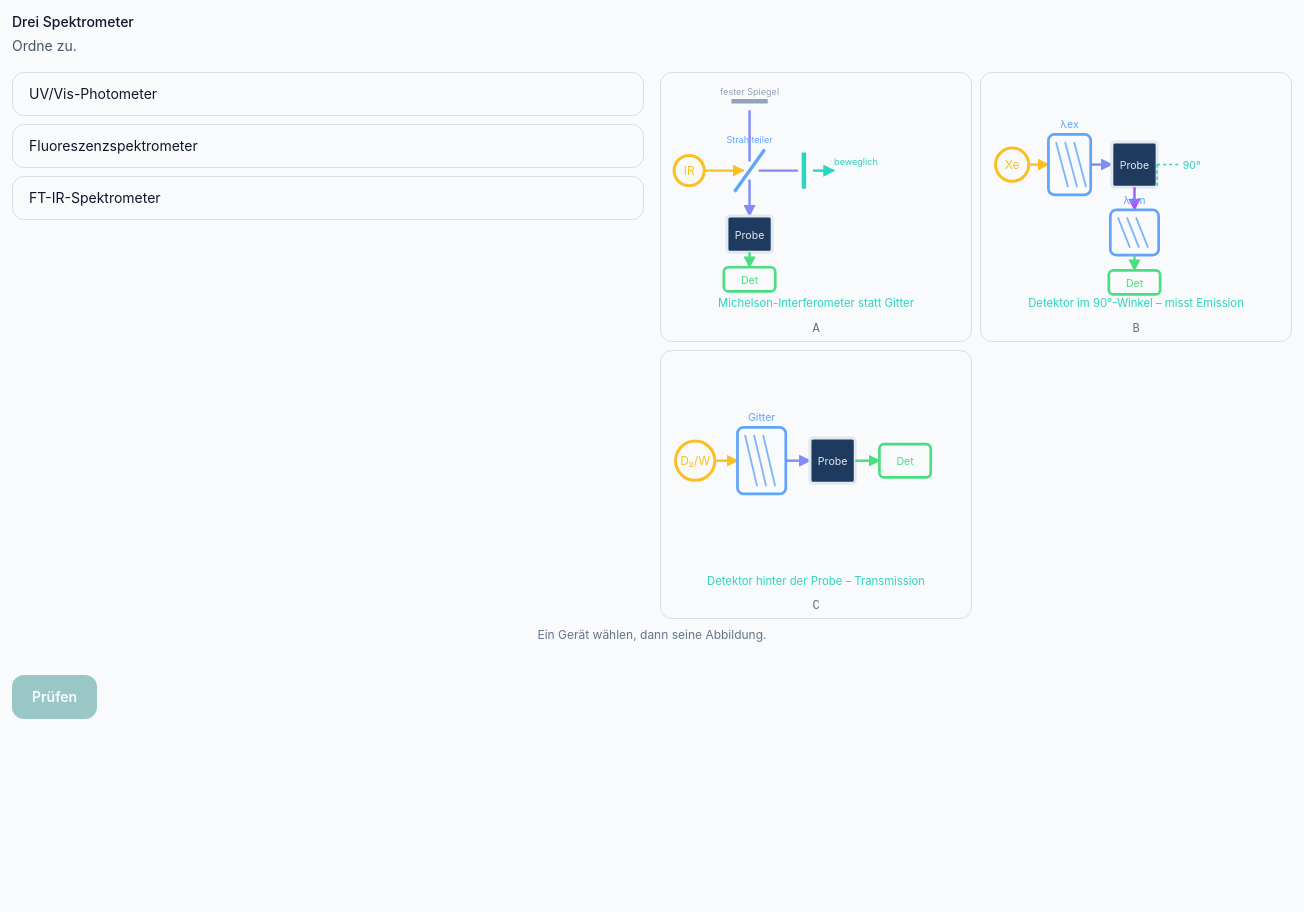
Test: Zuordnen › gibt ein Bild frei, wenn es einem anderen Namen zugeordnet wird
What coordinates should you click on to do the following:
click the button "UV/Vis-Photometer"
I would click on:
 (93, 94)
Its box is [12,72,644,116].
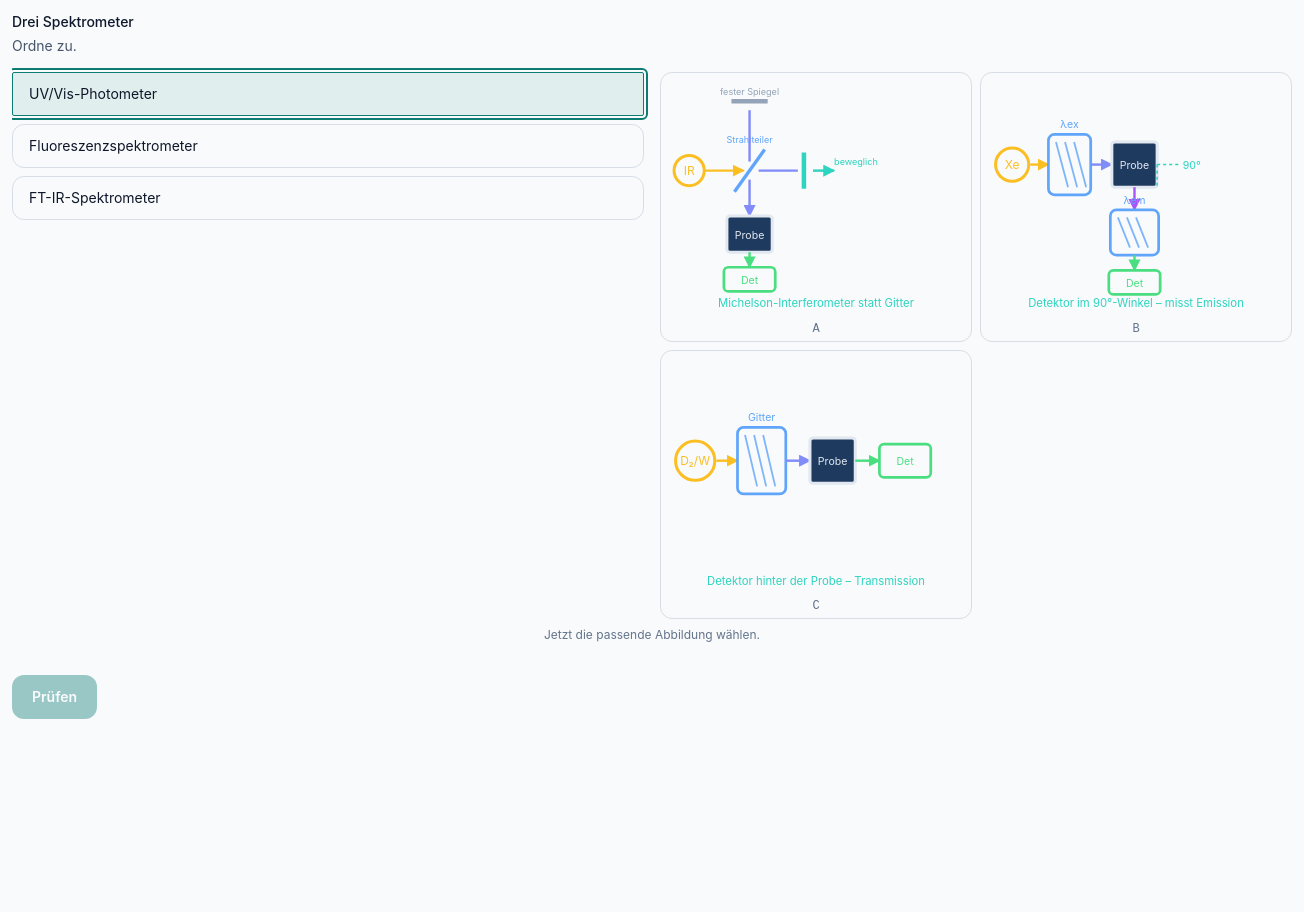
What coordinates should you click on to do the following:
click the button with aria-label "Abbildung C, noch nicht zugeordnet"
I would click on:
 (816, 484)
Its box is [660,350,972,619].
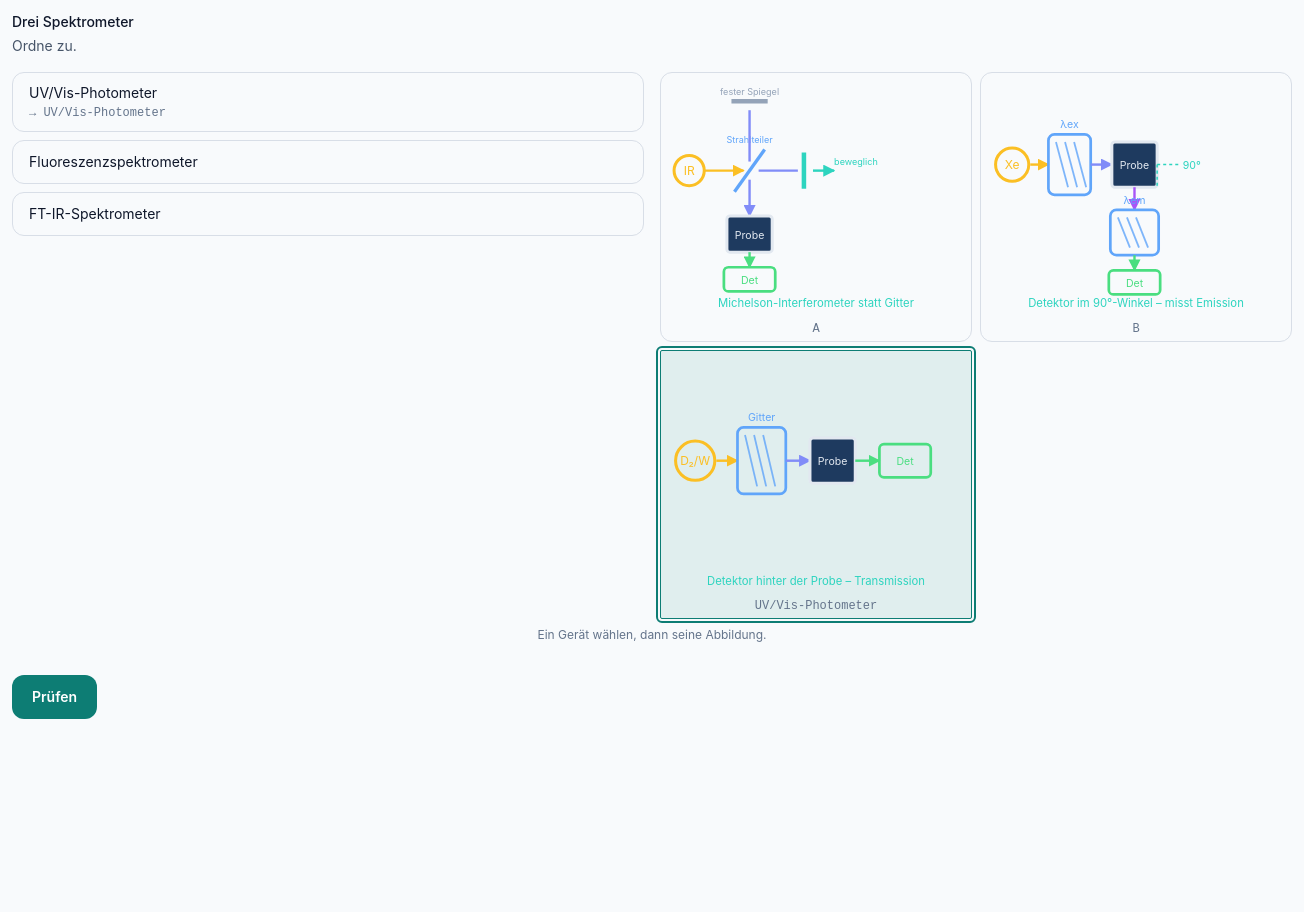
What coordinates should you click on to do the following:
click the button "Fluoreszenzspektrometer"
I would click on:
 (113, 162)
Its box is [12,140,644,184].
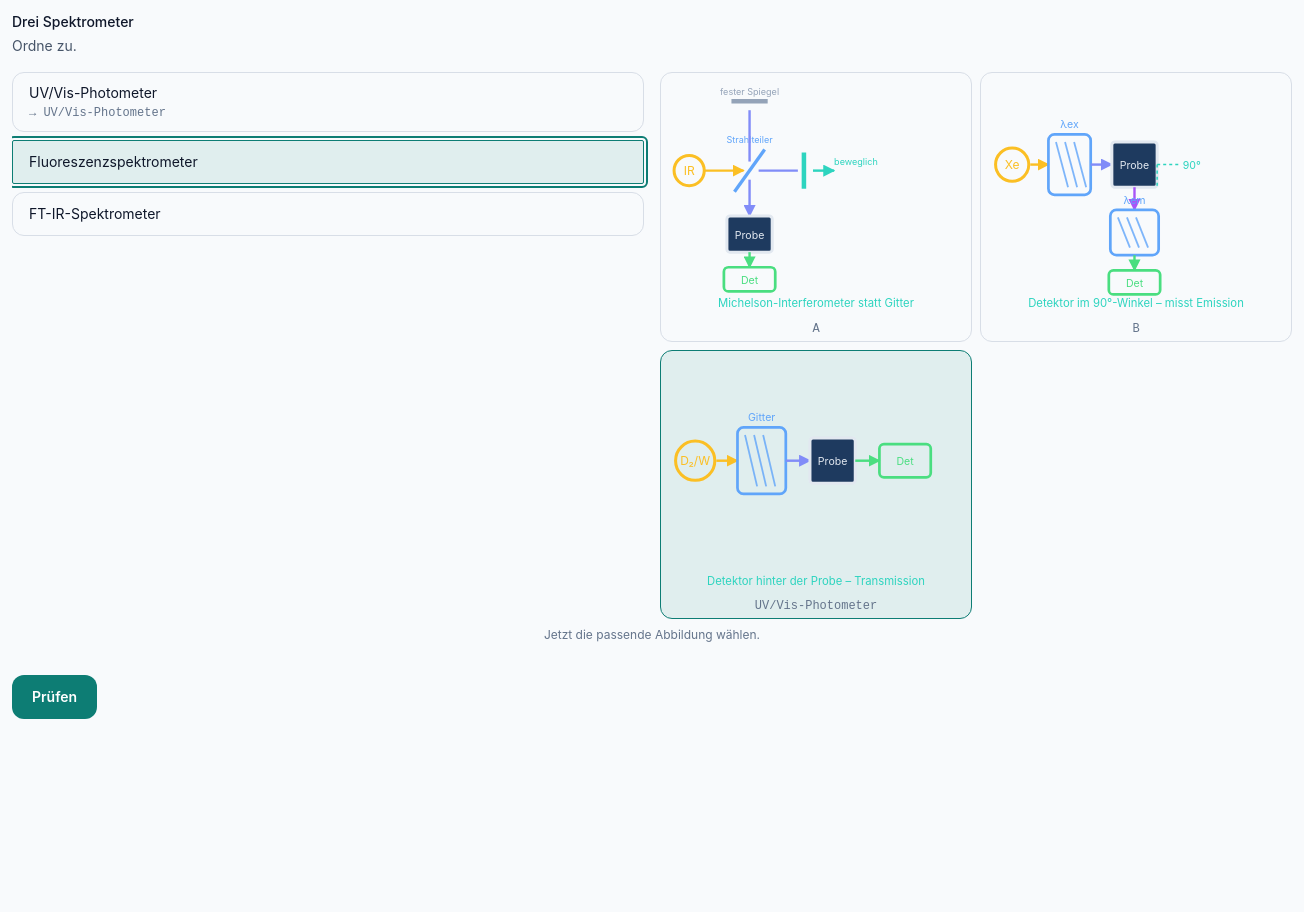
What coordinates should you click on to do the following:
click the button with aria-label "Abbildung C, zugeordnet zu UV/Vis-Photometer"
I would click on:
 (816, 484)
Its box is [660,350,972,619].
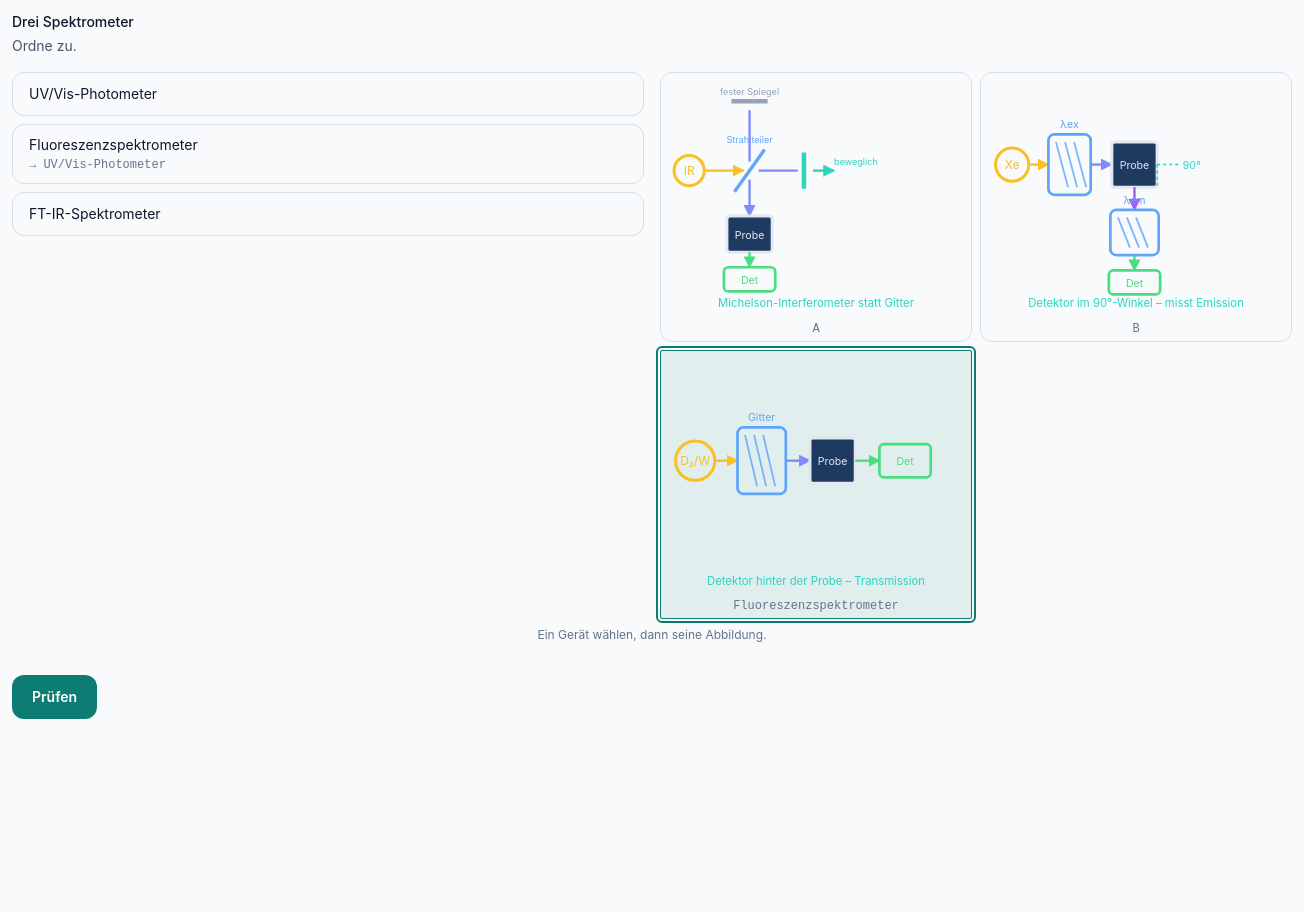
Expected: the button no longer shows "→"
